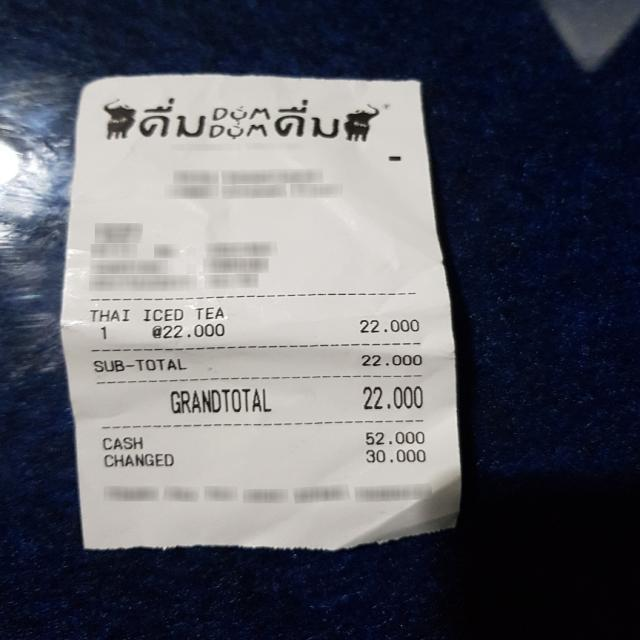kertas: (59, 72, 462, 553)
